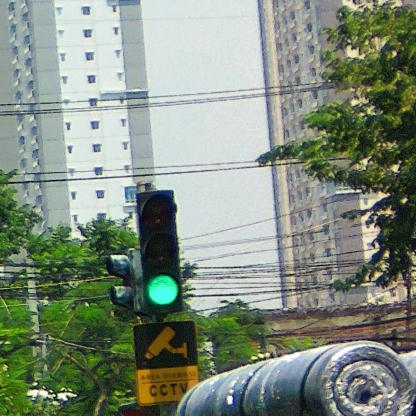green: (136, 192, 185, 312)
